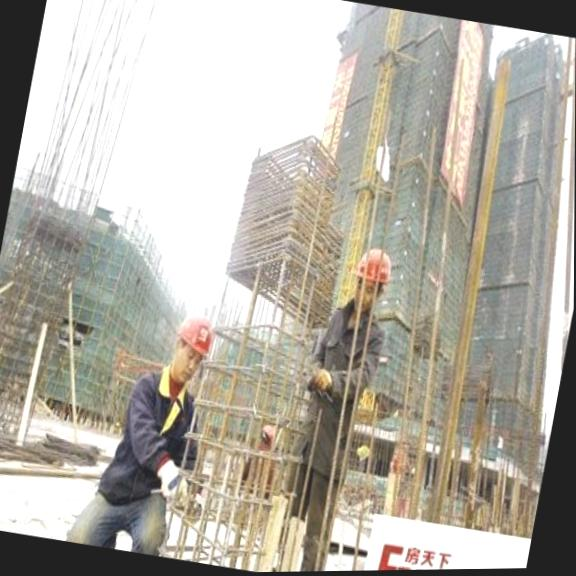no_safety_vest: (288, 295, 390, 473), (102, 363, 212, 511)
